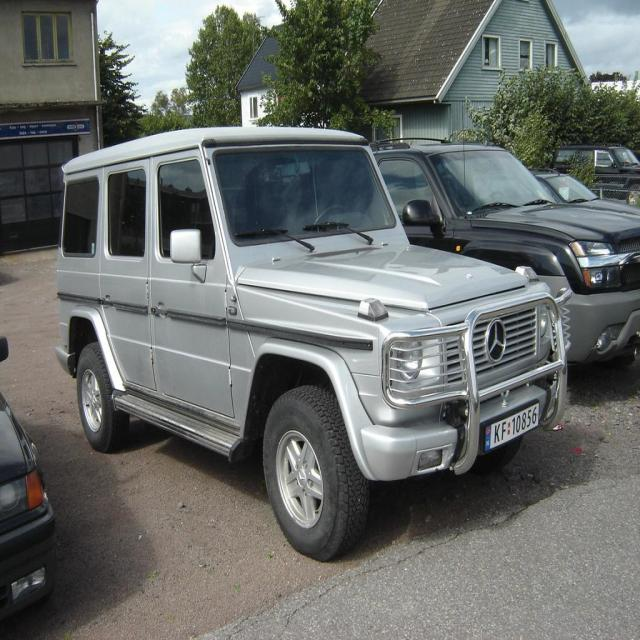car: (49, 120, 550, 558)
